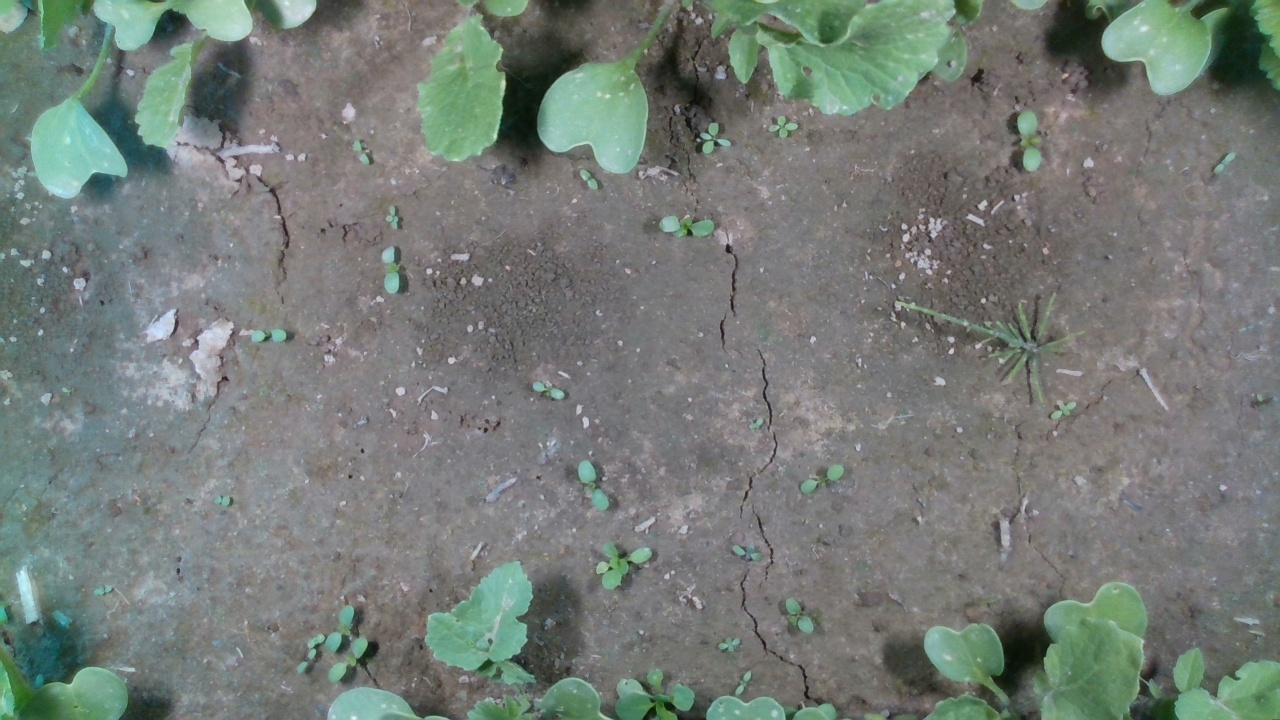weed: (578, 460, 610, 513), (1017, 109, 1042, 171), (659, 213, 715, 238), (799, 464, 845, 493), (784, 596, 815, 634), (699, 121, 733, 153), (380, 243, 400, 294), (766, 114, 799, 138), (531, 378, 565, 401), (250, 328, 287, 345), (1213, 149, 1235, 177), (1049, 399, 1077, 420), (296, 647, 317, 674), (730, 544, 763, 561), (735, 668, 753, 698), (352, 138, 370, 167), (717, 634, 741, 654), (578, 169, 598, 192), (384, 204, 400, 231)
